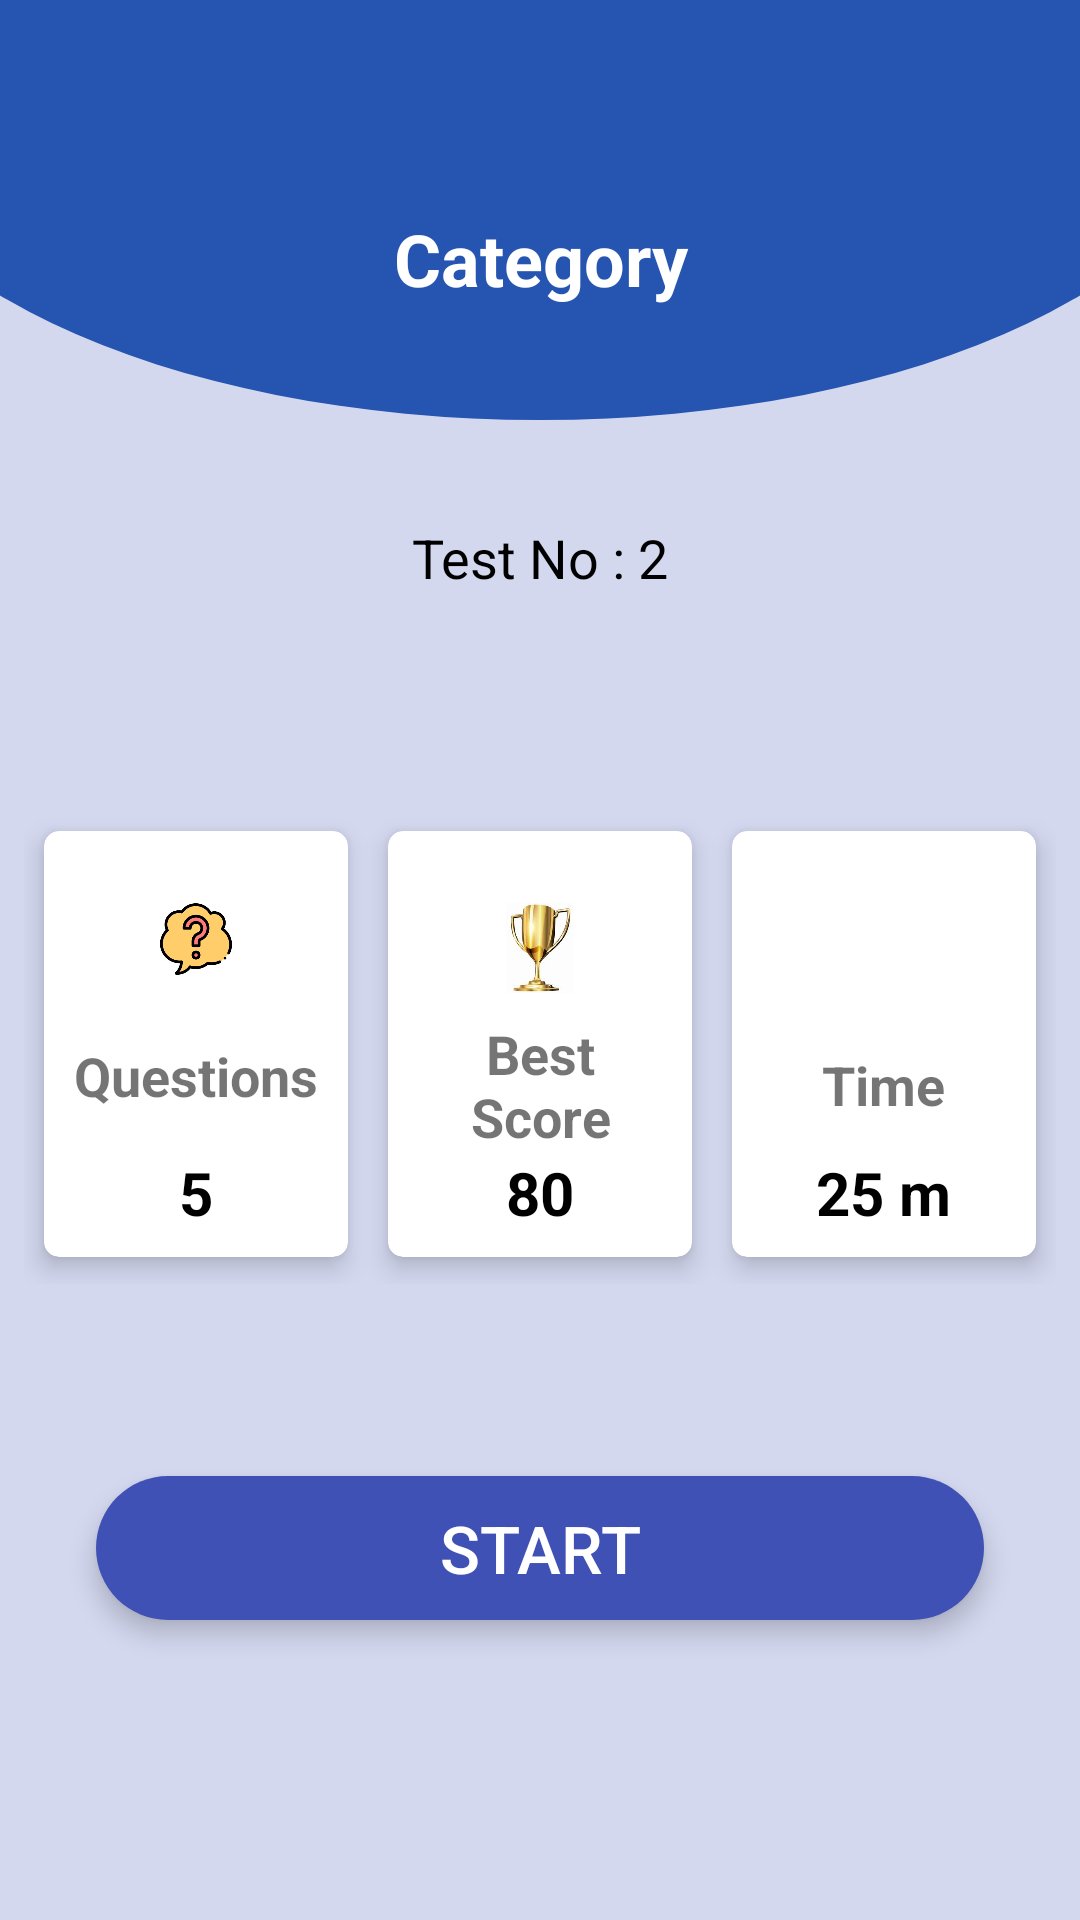

Screen size 1080 x 1920. Icon name, then its box in pixels as (x1, y1, x2, y2):
award: (511, 904, 571, 992)
